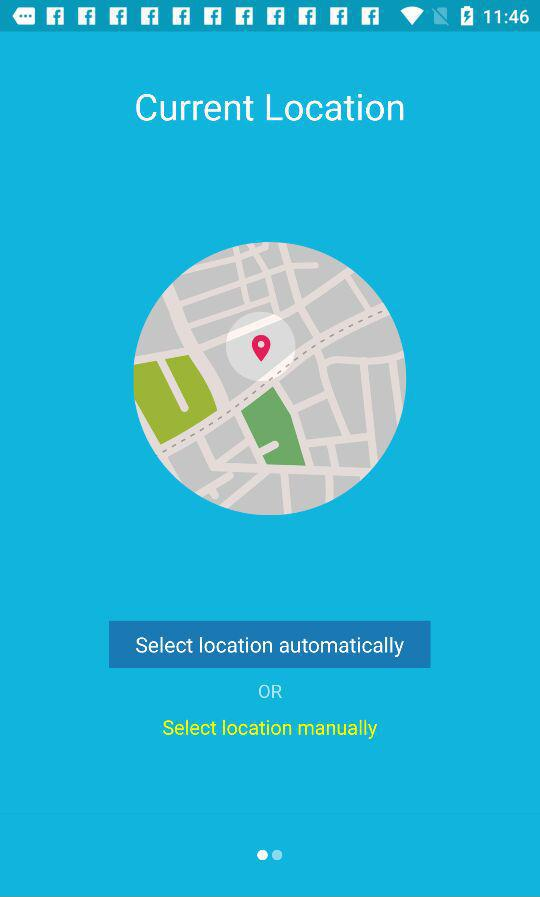Image: (134, 242, 407, 515)
PageIndicator: (256, 848, 284, 862)
Text: (136, 93, 405, 124), (162, 718, 378, 741), (259, 684, 283, 700)
TextButton: (109, 620, 432, 669)
UpperTaskBar: (1, 1, 540, 33)
